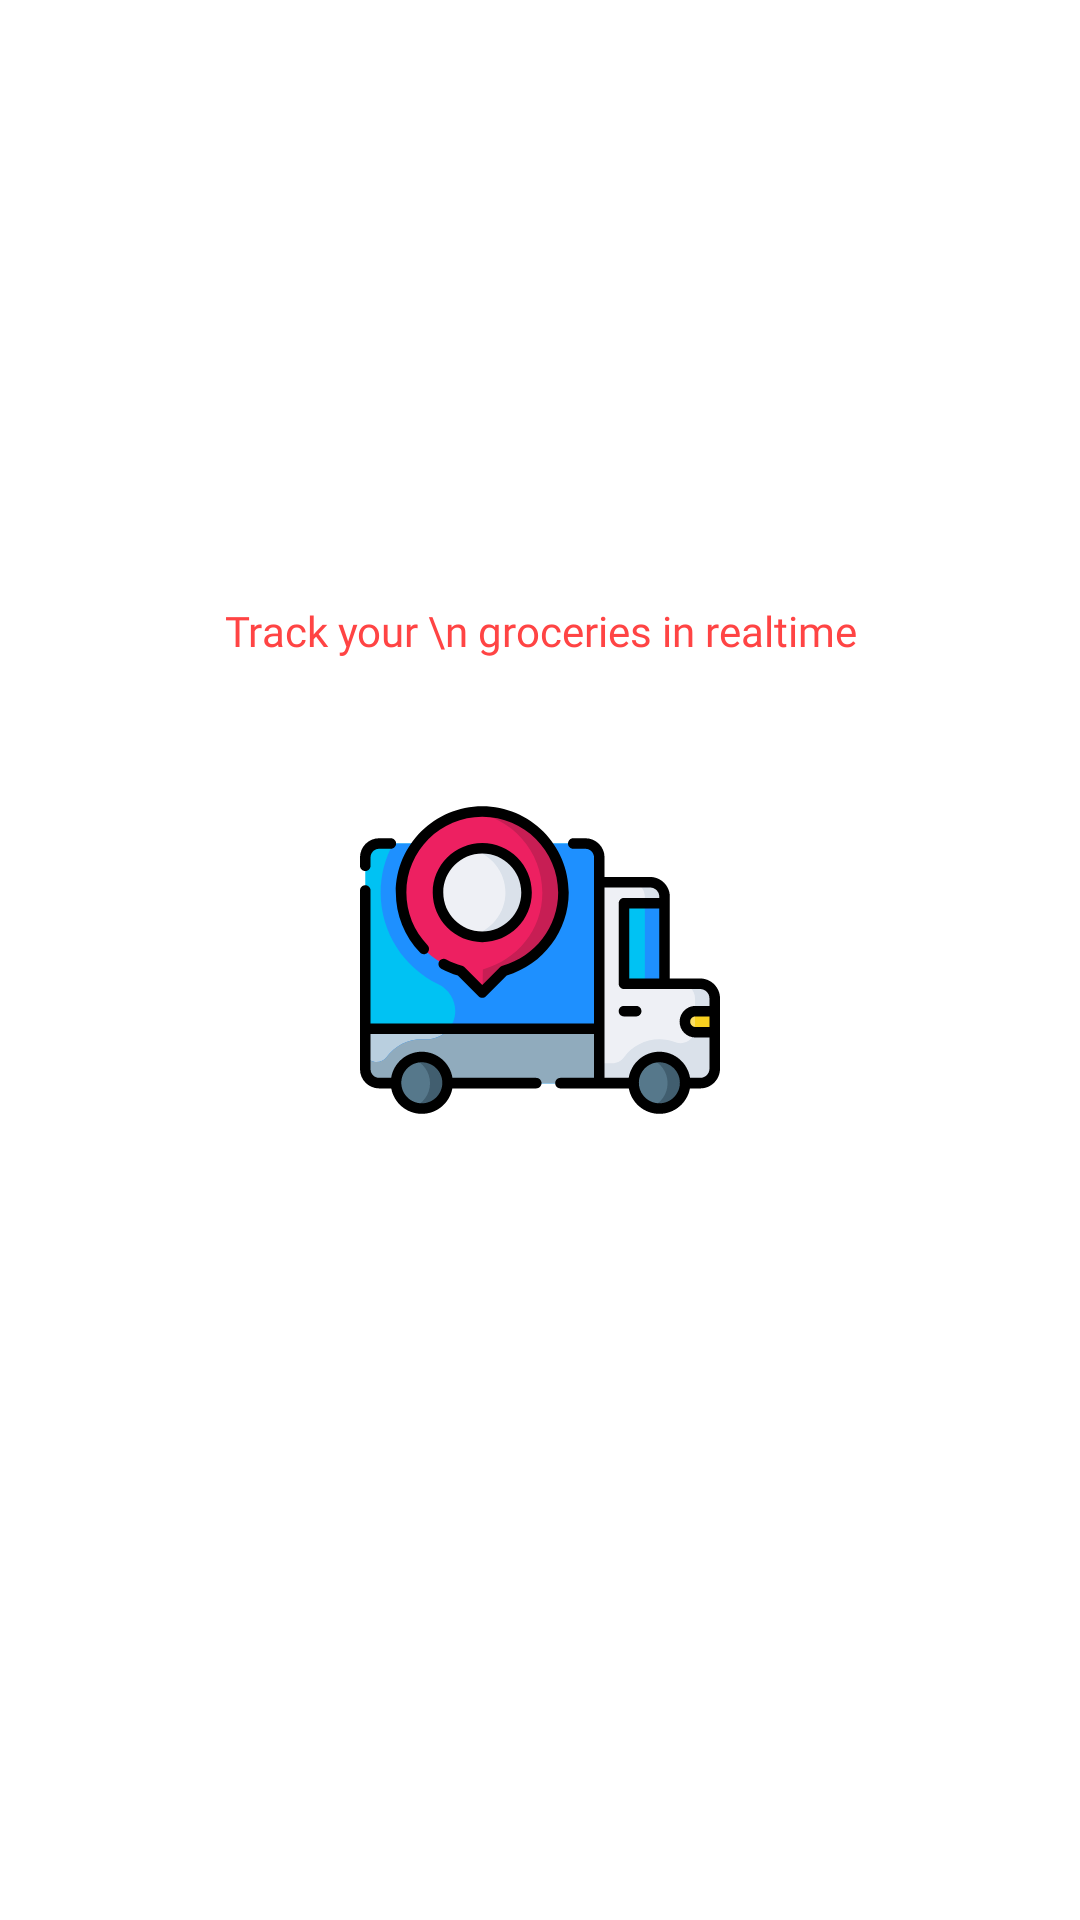

Where icons sit on this 1080*1920 app screen, as (x1, y1, x2, y2):
delivery truck: (360, 806, 720, 1114)
